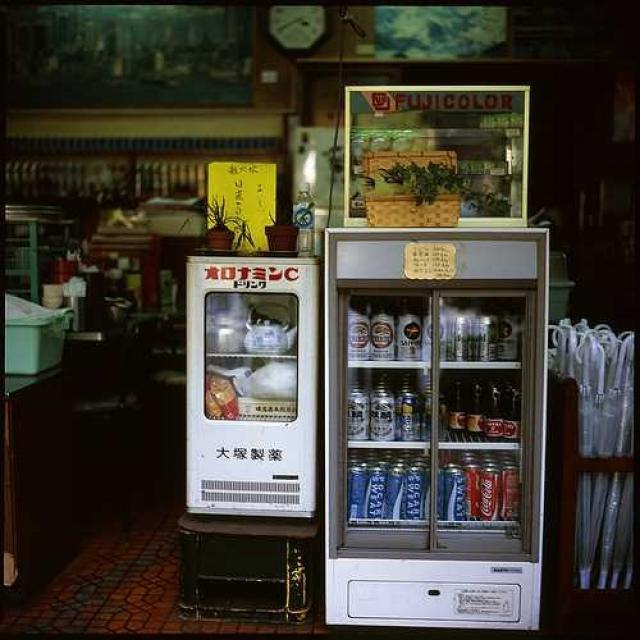refrigerator: (326, 224, 546, 640), (188, 257, 314, 515)
